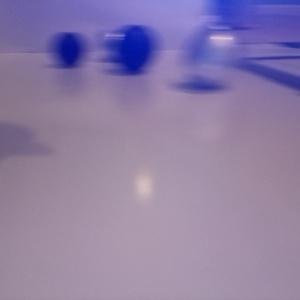alive_ball: (180, 29, 237, 84), (94, 31, 136, 62)
dead_ball: (116, 24, 154, 71), (52, 31, 86, 66)
